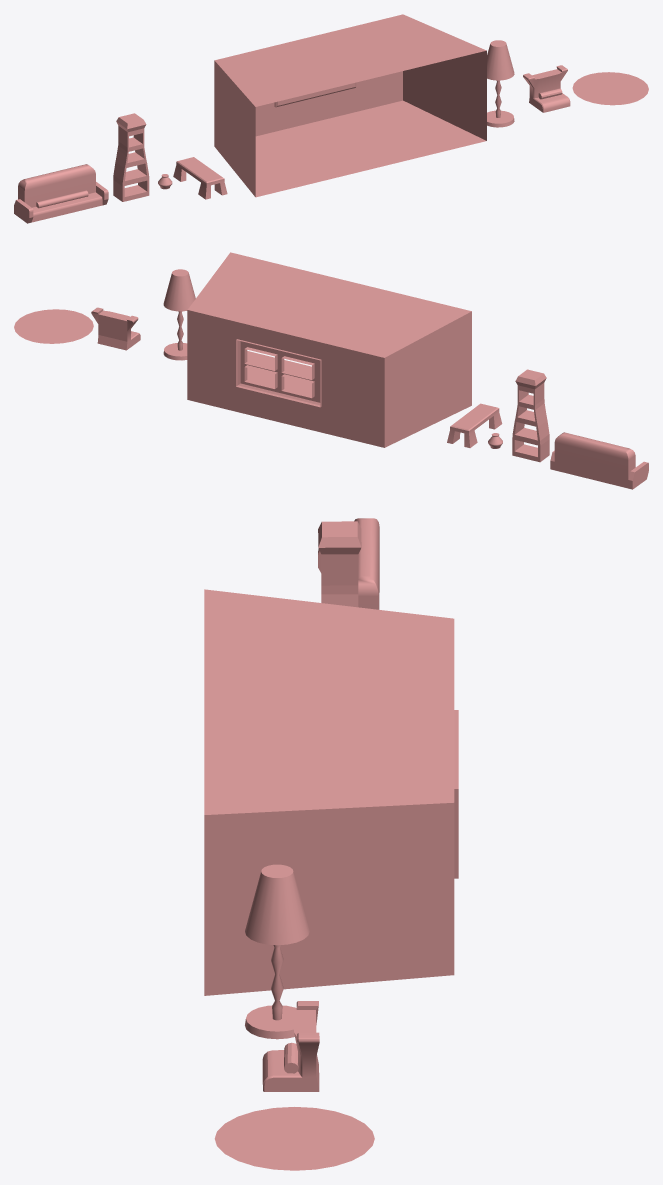
The model's file is sm_Room02_low.fbx.
The picture shows the model from 3 angles, top to bottom: view 1: azimuth 30°, elevation 25°; view 2: azimuth 150°, elevation 25°; view 3: azimuth 270°, elevation 25°; orthographic projection. The views are drawn at different scales.
Visible parts, largest first — view 1: sm_Walls_low, sm_Couch_low, sm_Shelf_low, sm_Rug_low, sm_Lamp_low, sm_Chair_low, sm_Side_Table_low, sm_Window_low, sm_Pillow_low; view 2: sm_Walls_low, sm_Couch_low, sm_Window_low, sm_Shelf_low, sm_Rug_low, sm_Lamp_low, sm_Chair_low, sm_Side_Table_low; view 3: sm_Walls_low, sm_Rug_low, sm_Lamp_low, sm_Chair_low, sm_Shelf_low, sm_Couch_low.
Boxes of the visible parts, left/top/right/bottom form: sm_Walls_low: left=214, top=14, right=486, bottom=197; sm_Couch_low: left=14, top=164, right=108, bottom=223; sm_Shelf_low: left=113, top=113, right=149, bottom=201; sm_Rug_low: left=572, top=72, right=648, bottom=105; sm_Lamp_low: left=487, top=40, right=514, bottom=127; sm_Chair_low: left=523, top=65, right=570, bottom=112; sm_Side_Table_low: left=173, top=157, right=227, bottom=199; sm_Window_low: left=274, top=82, right=356, bottom=107; sm_Pillow_low: left=36, top=190, right=88, bottom=208; sm_Walls_low: left=187, top=252, right=471, bottom=447; sm_Couch_low: left=550, top=432, right=648, bottom=489; sm_Window_low: left=236, top=339, right=321, bottom=407; sm_Shelf_low: left=512, top=369, right=549, bottom=462; sm_Rug_low: left=14, top=309, right=93, bottom=343; sm_Lamp_low: left=163, top=269, right=195, bottom=360; sm_Chair_low: left=91, top=307, right=140, bottom=350; sm_Side_Table_low: left=447, top=403, right=502, bottom=447; sm_Walls_low: left=204, top=589, right=458, bottom=995; sm_Rug_low: left=214, top=1107, right=374, bottom=1170; sm_Lamp_low: left=245, top=864, right=309, bottom=1039; sm_Chair_low: left=262, top=1001, right=319, bottom=1091; sm_Shelf_low: left=318, top=521, right=361, bottom=607; sm_Couch_low: left=318, top=518, right=379, bottom=609.
Bounding box in the file's own units: 1969 × 282 × 356.
